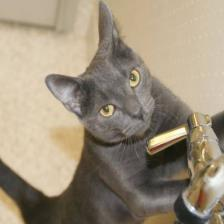cat: (41, 2, 162, 146)
